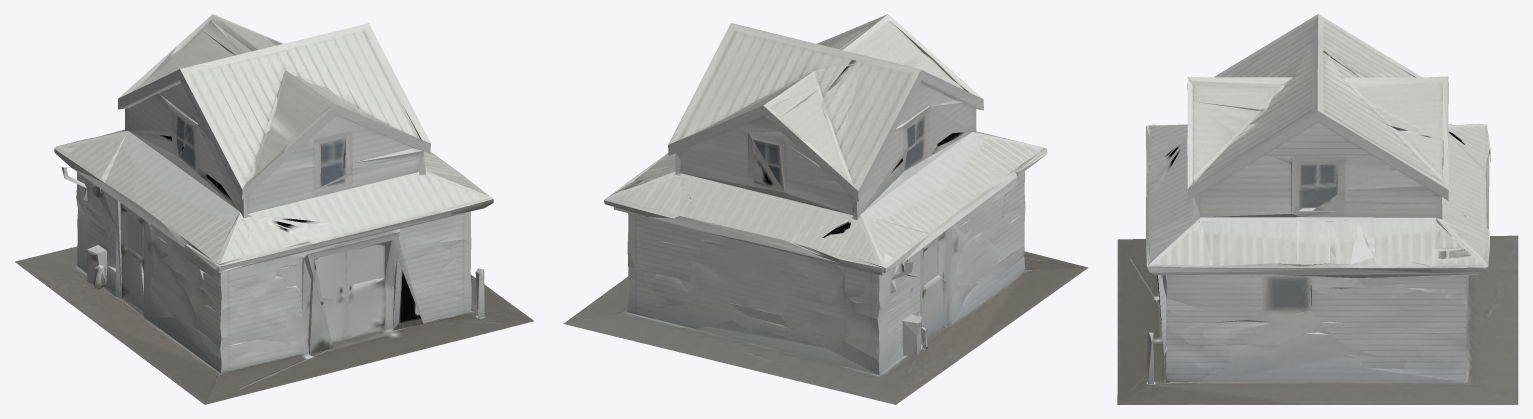
The model's file is bermuda-boathouse.glb.
The picture shows the model from 3 angles, left to right: view 1: azimuth 30°, elevation 25°; view 2: azimuth 150°, elevation 25°; view 3: azimuth 270°, elevation 25°; orthographic projection. The views are drawn at different scales.
Parts seen in each view (by area): view 1: output_unwrapped; view 2: output_unwrapped; view 3: output_unwrapped.
Part boxes in pixels (box(x1,y1,x2,y2)): output_unwrapped: box(15, 14, 534, 404); output_unwrapped: box(563, 14, 1088, 404); output_unwrapped: box(1117, 14, 1518, 404).
Bounding box in the file's own units: 1.9 × 1.37 × 1.9.
1 material, 1 textured.
